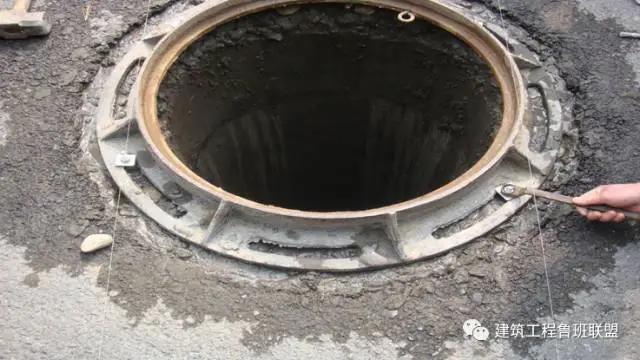wellcover: (112, 0, 561, 267)
